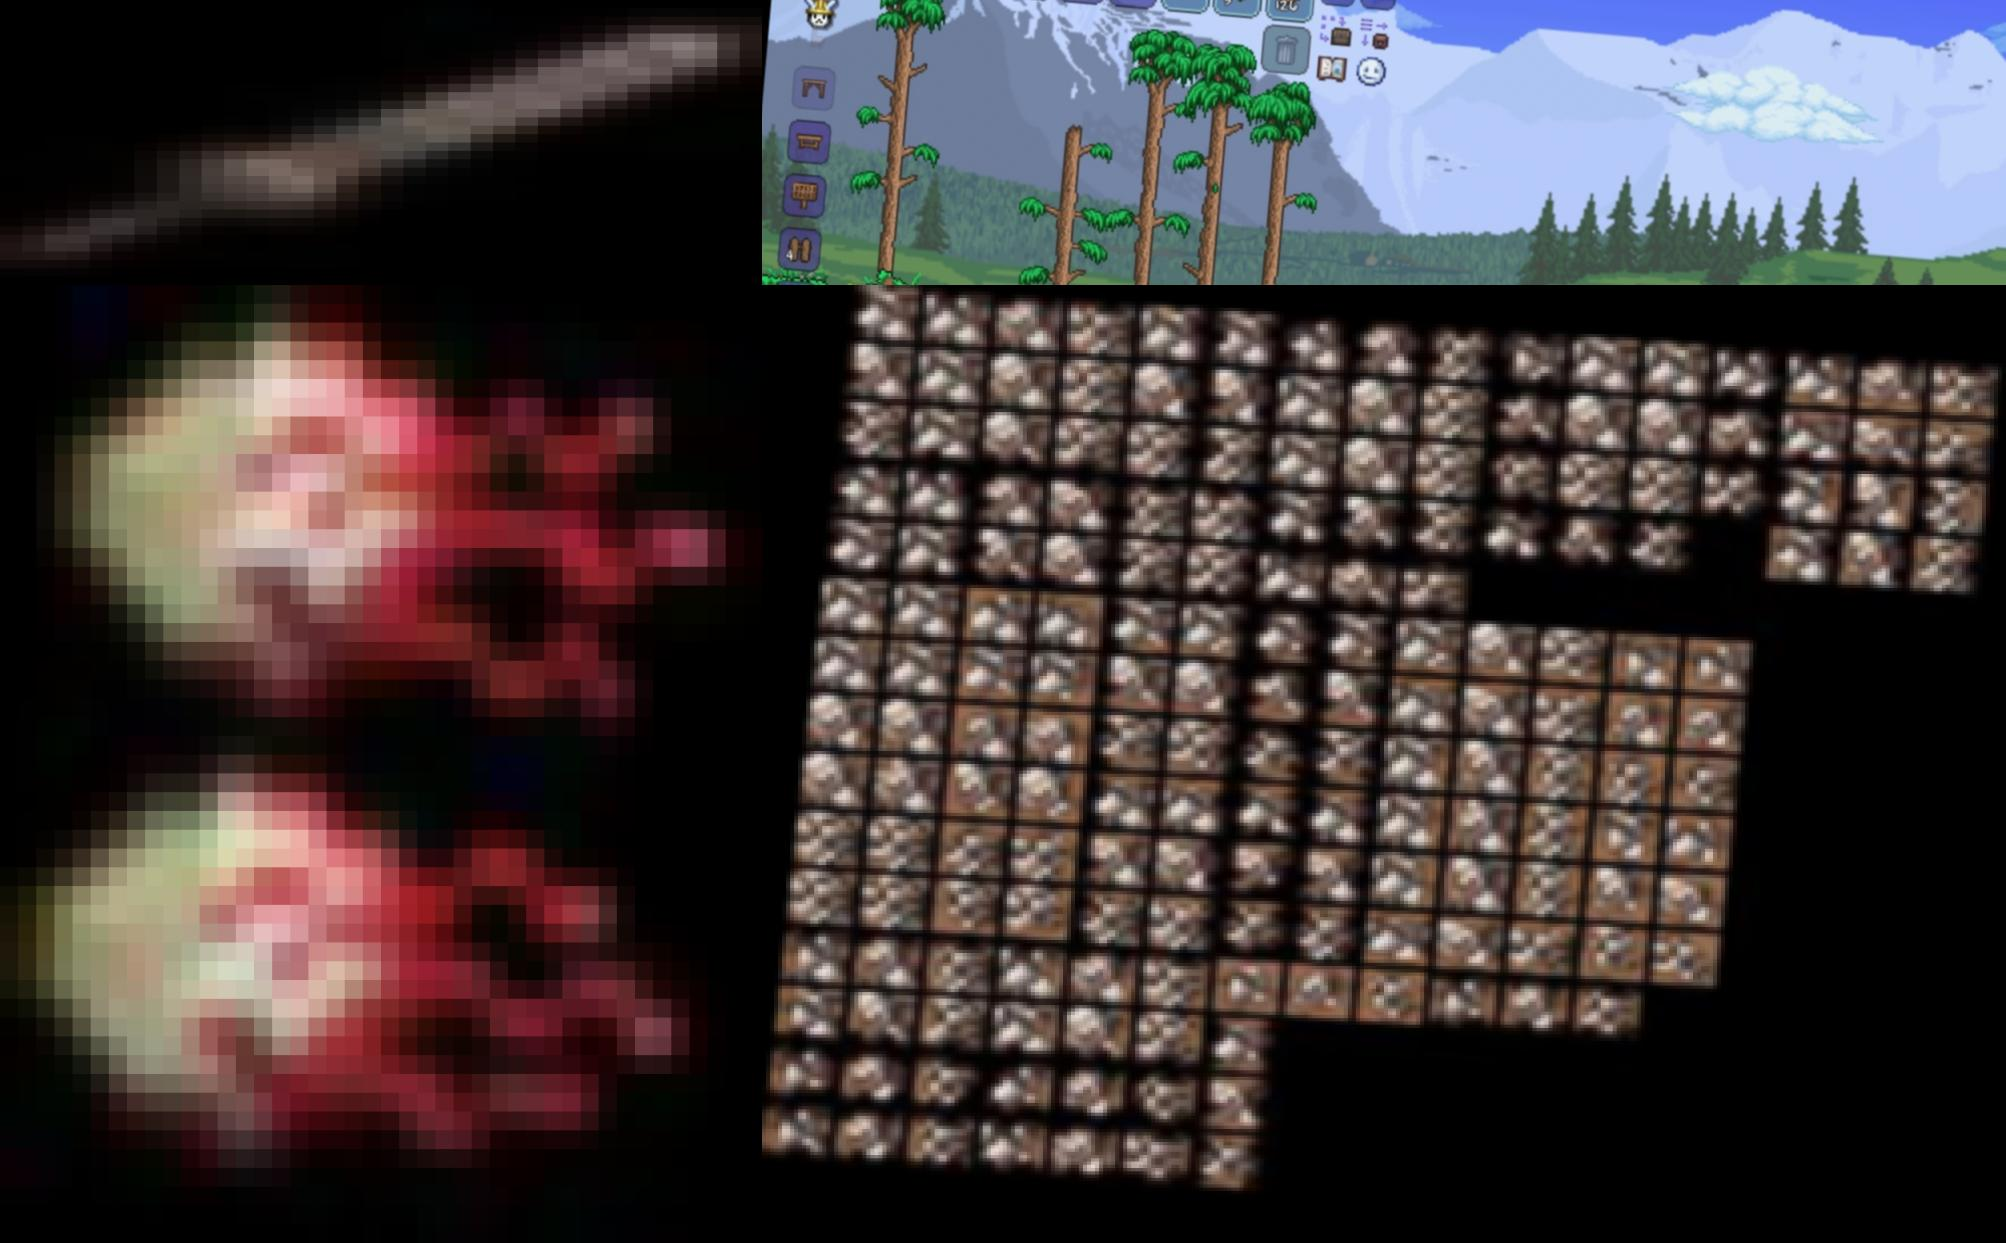eye: (36, 285, 744, 754)
iron: (851, 285, 927, 344)
sword: (0, 0, 762, 285)
